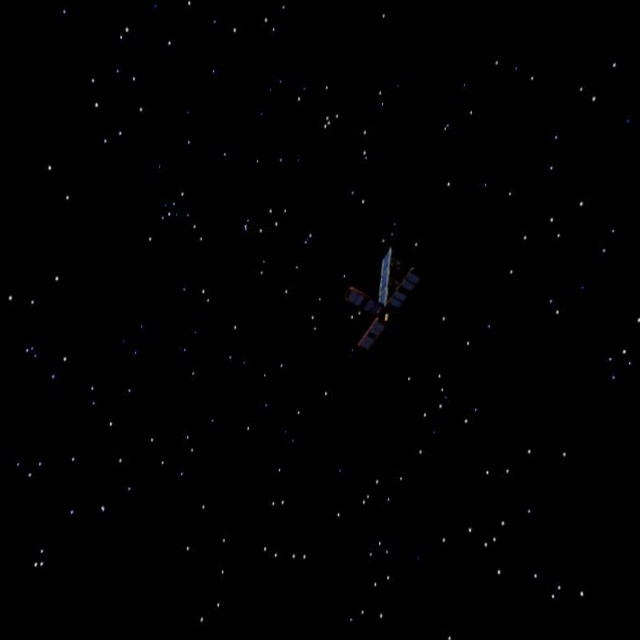medium_debris: (330, 232, 437, 363)
